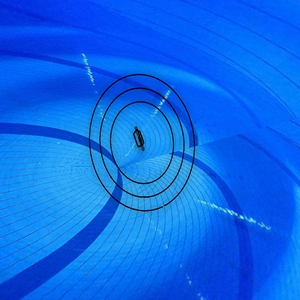circle: (85, 70, 202, 213)
submarine: (130, 125, 152, 155)
